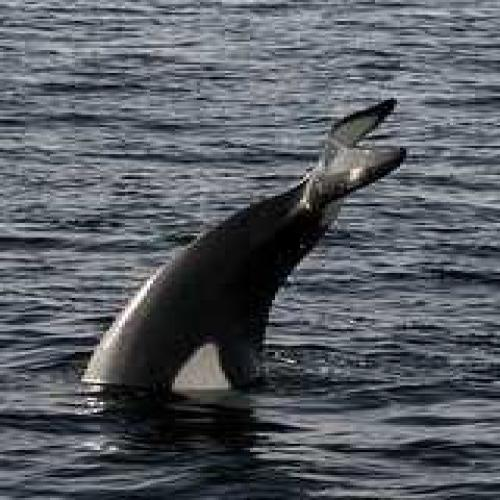killer_whale-endangered: (76, 93, 426, 413)
